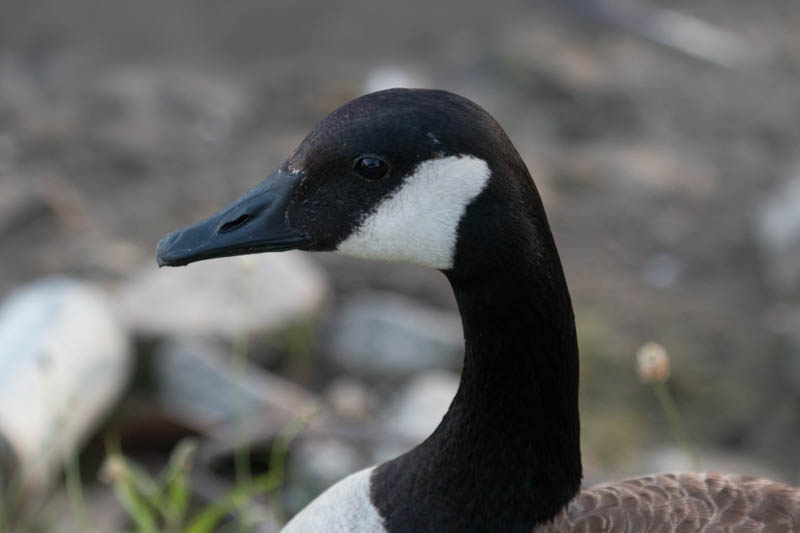goose-head: (153, 88, 562, 272)
